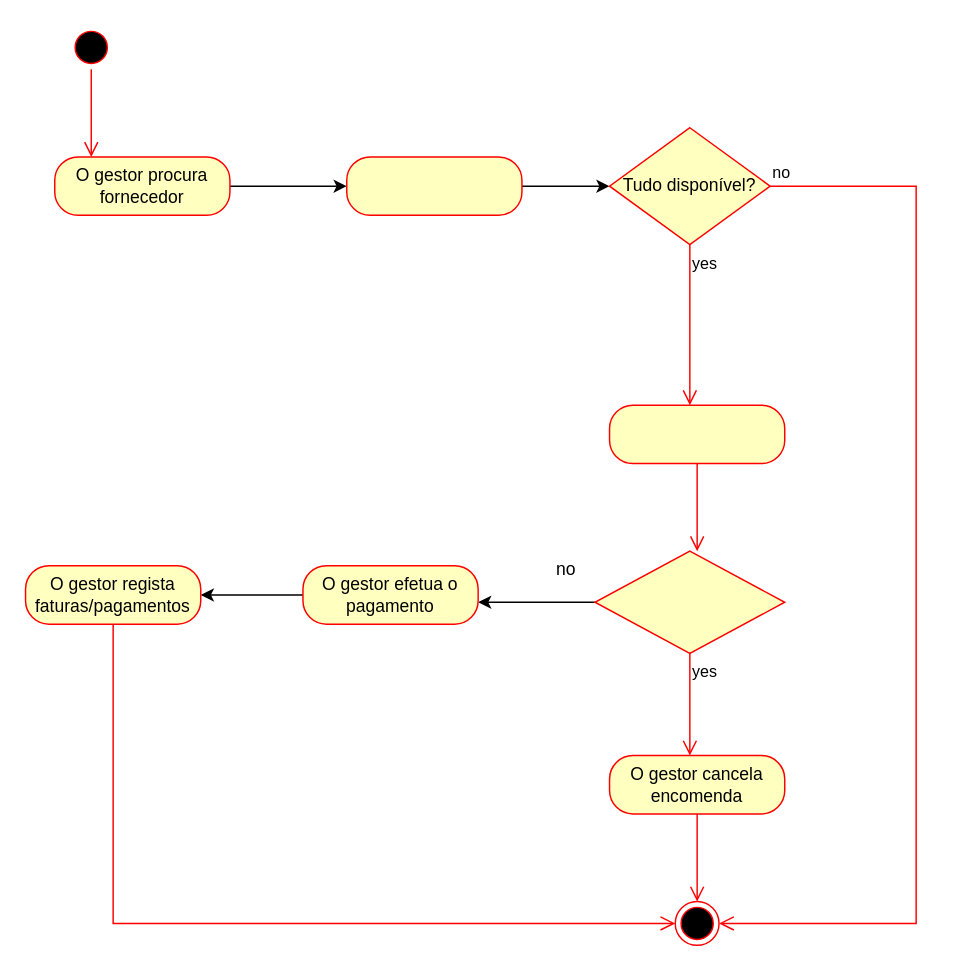
This 956x971 diagram has some shape labels left out. Here are the shapes that lost their labels. From the top down, the centre of each, then its label:
At [433,185]: "O gestor seleciona a matéria-prima".
At [696,434]: "Confirmar Encomenda".
At [689,601]: "Cancelar encomenda?".
